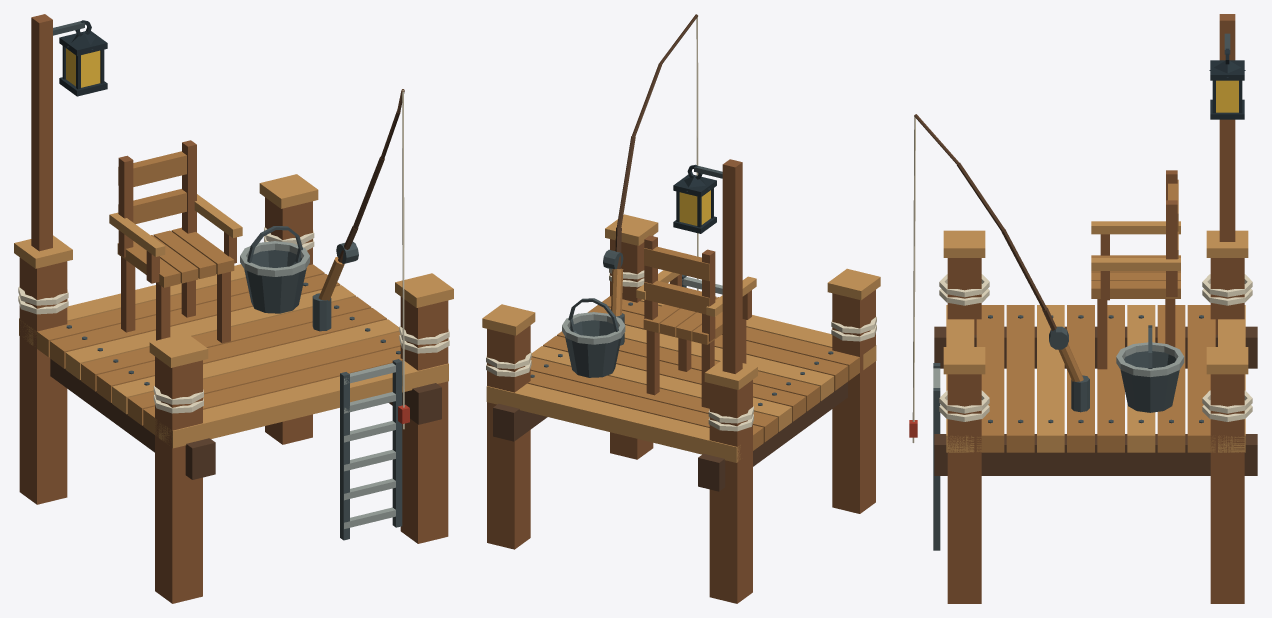
The model's file is fishing_deck.glb.
The picture shows the model from 3 angles, left to right: view 1: azimuth 30°, elevation 25°; view 2: azimuth 150°, elevation 25°; view 3: azimuth 270°, elevation 25°; orthographic projection. The views are drawn at different scales.
Visible parts, largest first — view 1: fishing_platform__wood2, fishing_platform__wood3, fishing_pile_2__wood, fishing_pile_0__wood, fishing_pile_1__wood, fishing_chair__wood, fishing_chair__wood2, fishing_lamp__wood, fishing_platform__wood_dark, fishing_bucket__metal, fishing_ladder__steel, fishing_ladder__metal (+15 smaller); view 2: fishing_platform__wood2, fishing_platform__wood3, fishing_pile_2__wood, fishing_pile_0__wood, fishing_pile_3__wood, fishing_chair__wood2, fishing_lamp__wood, fishing_chair__wood, fishing_platform__wood_dark, fishing_bucket__metal, fishing_pile_1__wood, fishing_lamp__dark (+12 smaller); view 3: fishing_platform__wood2, fishing_platform__wood_dark, fishing_platform__wood3, fishing_pile_3__wood, fishing_pile_1__wood, fishing_chair__wood, fishing_lamp__wood, fishing_bucket__metal, fishing_chair__wood2, fishing_chair__wood3, fishing_pile_2__wood, fishing_pile_0__wood (+15 smaller).
Boxes of the visible parts, x1=… form: fishing_platform__wood2: x1=34, y1=264, x2=402, y2=436; fishing_platform__wood3: x1=19, y1=264, x2=448, y2=448; fishing_pile_2__wood: x1=19, y1=257, x2=67, y2=504; fishing_pile_0__wood: x1=155, y1=356, x2=202, y2=603; fishing_pile_1__wood: x1=400, y1=297, x2=448, y2=543; fishing_chair__wood: x1=118, y1=140, x2=236, y2=343; fishing_chair__wood2: x1=117, y1=151, x2=234, y2=287; fishing_lamp__wood: x1=31, y1=14, x2=52, y2=251; fishing_platform__wood_dark: x1=50, y1=359, x2=441, y2=479; fishing_bucket__metal: x1=244, y1=226, x2=306, y2=313; fishing_ladder__steel: x1=344, y1=363, x2=395, y2=528; fishing_ladder__metal: x1=340, y1=359, x2=402, y2=540; fishing_platform__wood2: x1=528, y1=296, x2=859, y2=450; fishing_platform__wood3: x1=486, y1=299, x2=876, y2=462; fishing_pile_2__wood: x1=709, y1=380, x2=752, y2=603; fishing_pile_0__wood: x1=832, y1=290, x2=875, y2=513; fishing_pile_3__wood: x1=487, y1=325, x2=530, y2=549; fishing_chair__wood2: x1=643, y1=246, x2=722, y2=344; fishing_lamp__wood: x1=722, y1=159, x2=742, y2=373; fishing_chair__wood: x1=644, y1=235, x2=751, y2=408; fishing_platform__wood_dark: x1=493, y1=382, x2=847, y2=491; fishing_bucket__metal: x1=565, y1=298, x2=621, y2=377; fishing_pile_1__wood: x1=610, y1=235, x2=653, y2=459; fishing_lamp__dark: x1=673, y1=164, x2=716, y2=233; fishing_platform__wood2: x1=976, y1=305, x2=1215, y2=452; fishing_platform__wood_dark: x1=934, y1=326, x2=1257, y2=475; fishing_platform__wood3: x1=946, y1=305, x2=1245, y2=452; fishing_pile_3__wood: x1=1210, y1=374, x2=1244, y2=603; fishing_pile_1__wood: x1=947, y1=374, x2=981, y2=603; fishing_chair__wood: x1=1097, y1=170, x2=1177, y2=369; fishing_lamp__wood: x1=1219, y1=14, x2=1235, y2=241; fishing_bucket__metal: x1=1120, y1=325, x2=1179, y2=412; fishing_chair__wood2: x1=1091, y1=179, x2=1180, y2=298; fishing_chair__wood3: x1=1091, y1=221, x2=1180, y2=270; fishing_pile_2__wood: x1=1210, y1=258, x2=1244, y2=334; fishing_pile_0__wood: x1=947, y1=258, x2=981, y2=334.
Size of the model in its own units: 2.11 by 3.3 by 2.25.
